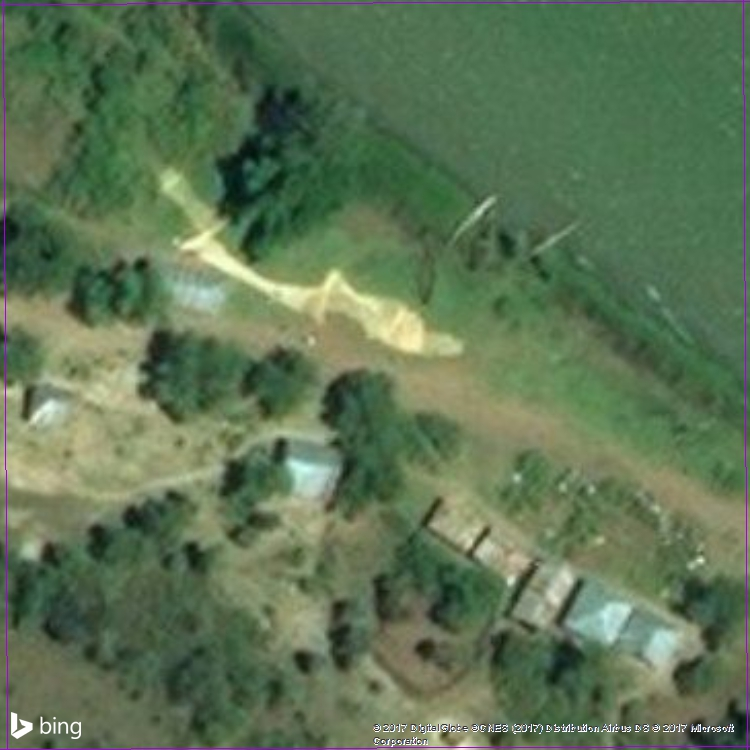boat: (522, 199, 588, 276), (447, 175, 505, 259)
